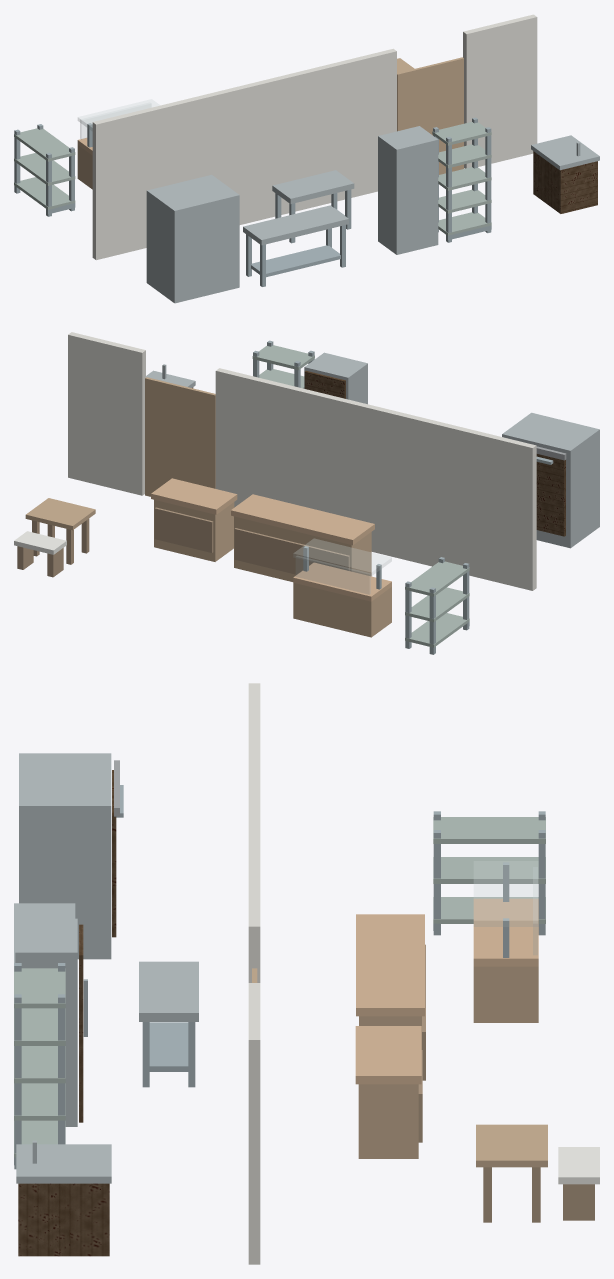
The picture shows the model from 3 angles, top to bottom: view 1: azimuth 30°, elevation 25°; view 2: azimuth 150°, elevation 25°; view 3: azimuth 270°, elevation 25°; orthographic projection. The views are drawn at different scales.
Visible parts, largest first — view 1: C02_DIVISORIA_E__Walls_Occludable, C02_07__corpo, C02_DIVISORIA_D__Walls_Occludable, C02_10__corpo, C02_D02__FOLHA_ESTATICA_PIVO_PENDENTE, C02_12__armario, C02_08__tampo, C02_09__tampo, C02_12__tampo, C02_08__travessa, C02_04__prateleira_02, C02_04__prateleira_01 (+11 smaller); view 2: C02_DIVISORIA_E__Walls_Occludable, C02_DIVISORIA_D__Walls_Occludable, C02_D02__FOLHA_ESTATICA_PIVO_PENDENTE, C02_07__corpo, C02_01__base, C02_02__tampo, C02_02__frente, C02_02__corpo, C02_07__painel_porta, C02_01__bancada, C02_03__corpo, C02_01__vidro_superior (+12 smaller); view 3: C02_07__corpo, C02_02__tampo, C02_12__armario, C02_10__corpo, C02_03__corpo, C02_01__bancada, C02_01__vidro_superior, C02_03__tampo, C02_DIVISORIA_E__Walls_Occludable, C02_12__tampo, C02_01__base, C02_DIVISORIA_D__Walls_Occludable (+17 smaller).
Part boxes in pixels (bbox=[...]): C02_DIVISORIA_E__Walls_Occludable: bbox=[92, 48, 396, 260]; C02_07__corpo: bbox=[146, 174, 239, 303]; C02_DIVISORIA_D__Walls_Occludable: bbox=[463, 14, 537, 168]; C02_10__corpo: bbox=[378, 126, 438, 254]; C02_D02__FOLHA_ESTATICA_PIVO_PENDENTE: bbox=[397, 57, 463, 174]; C02_12__armario: bbox=[533, 151, 597, 213]; C02_08__tampo: bbox=[243, 205, 348, 245]; C02_09__tampo: bbox=[272, 170, 354, 203]; C02_12__tampo: bbox=[531, 135, 599, 170]; C02_08__travessa: bbox=[251, 245, 340, 277]; C02_04__prateleira_02: bbox=[14, 128, 75, 161]; C02_04__prateleira_01: bbox=[14, 153, 75, 185]; C02_DIVISORIA_E__Walls_Occludable: bbox=[215, 368, 536, 590]; C02_DIVISORIA_D__Walls_Occludable: bbox=[68, 332, 145, 495]; C02_D02__FOLHA_ESTATICA_PIVO_PENDENTE: bbox=[145, 377, 215, 496]; C02_07__corpo: bbox=[502, 412, 599, 548]; C02_01__base: bbox=[293, 582, 391, 637]; C02_02__tampo: bbox=[231, 494, 374, 545]; C02_02__frente: bbox=[234, 528, 349, 574]; C02_02__corpo: bbox=[234, 516, 371, 581]; C02_07__painel_porta: bbox=[536, 454, 565, 536]; C02_01__bancada: bbox=[293, 562, 391, 601]; C02_03__corpo: bbox=[154, 500, 234, 561]; C02_01__vidro_superior: bbox=[293, 538, 391, 575]; C02_07__corpo: bbox=[19, 753, 111, 959]; C02_02__tampo: bbox=[356, 914, 424, 1016]; C02_12__armario: bbox=[18, 1183, 109, 1256]; C02_10__corpo: bbox=[15, 918, 77, 1126]; C02_03__corpo: bbox=[358, 1084, 418, 1158]; C02_01__bancada: bbox=[473, 898, 538, 966]; C02_01__vidro_superior: bbox=[474, 861, 538, 926]; C02_03__tampo: bbox=[355, 1026, 421, 1084]; C02_DIVISORIA_E__Walls_Occludable: bbox=[248, 683, 260, 982]; C02_12__tampo: bbox=[16, 1144, 111, 1183]; C02_01__base: bbox=[473, 966, 538, 1022]; C02_DIVISORIA_D__Walls_Occludable: bbox=[248, 983, 260, 1264].
Bounding box in the file's own units: 8.68 × 2.55 × 6.03.
12 materials, 1 textured.
